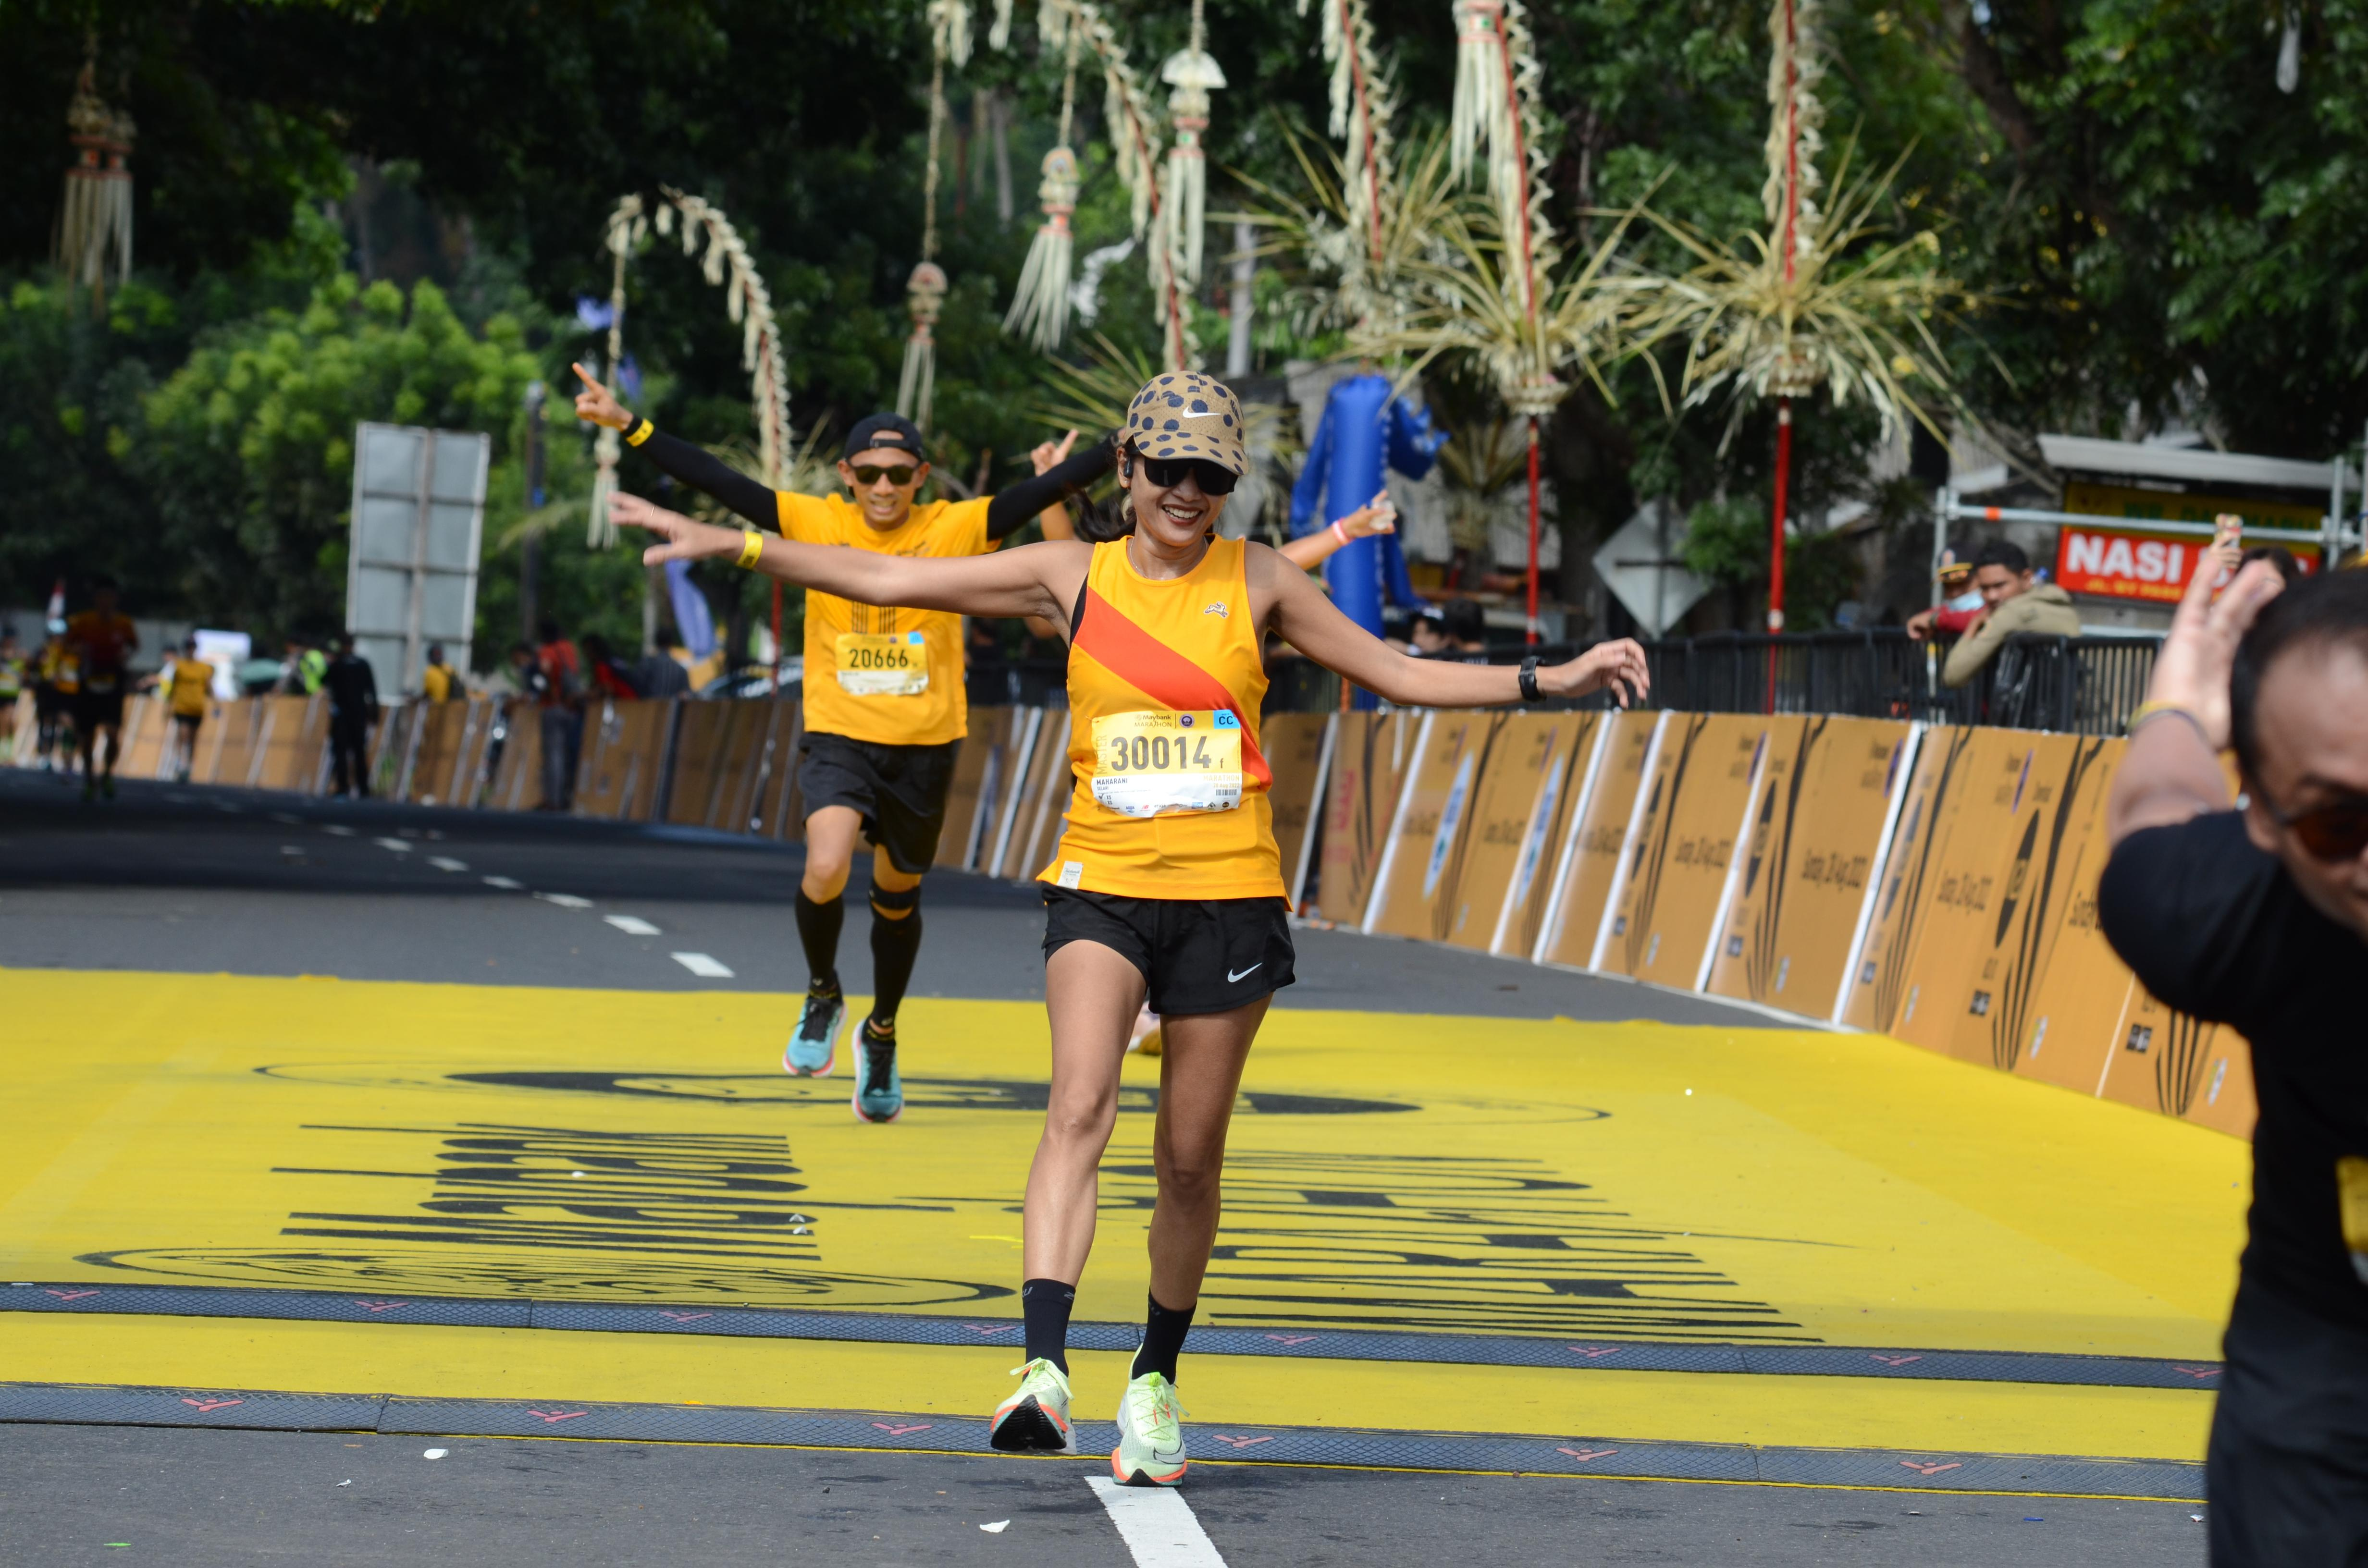bib: (1089, 712, 1241, 817), (840, 633, 929, 693)
